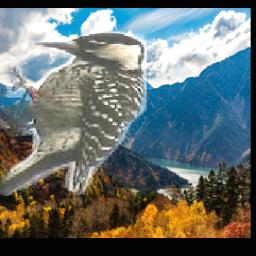Woodpecker: (0, 32, 147, 197)
